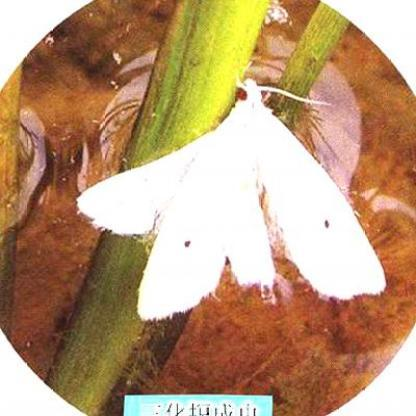stem-borer: (76, 76, 386, 325)
